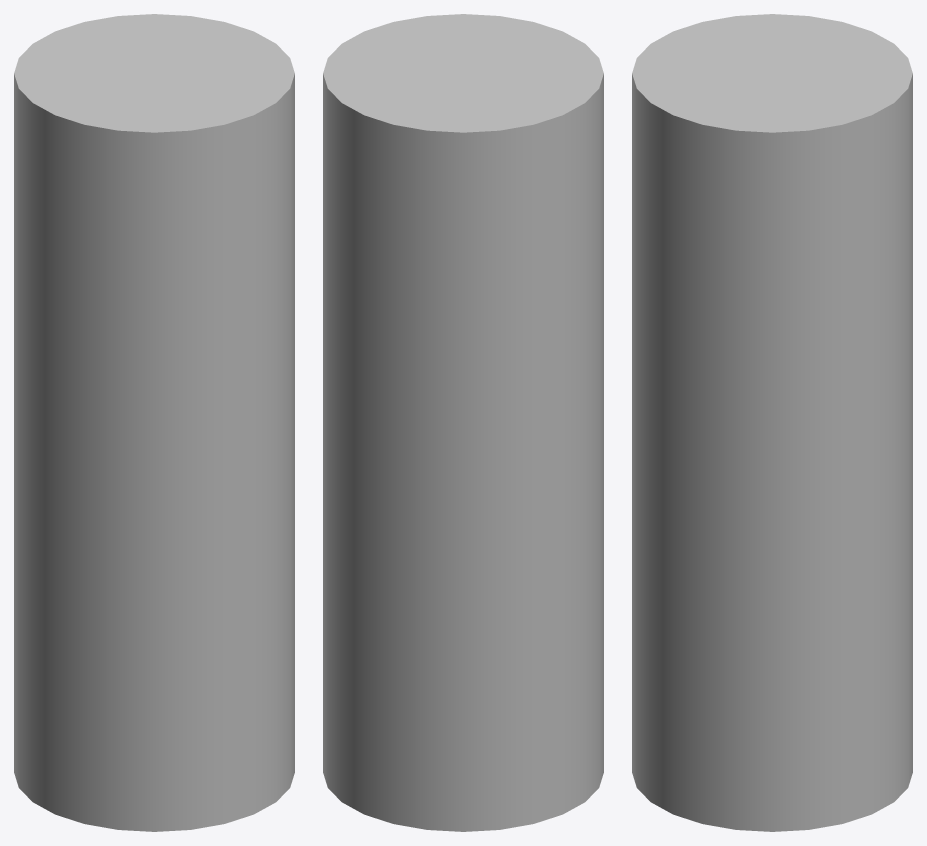
Rendered from corner.fbx.
3 renders of one model, left to right at view 1: azimuth 30°, elevation 25°; view 2: azimuth 150°, elevation 25°; view 3: azimuth 270°, elevation 25°, orthographic.
Visible parts, largest first — view 1: corner; view 2: corner; view 3: corner.
Part boxes in pixels (box(x1,y1,x2,y2)): corner: box(14, 14, 294, 831); corner: box(323, 14, 603, 831); corner: box(632, 14, 912, 831).
Bounding box in the file's own units: 167 × 460 × 167.
